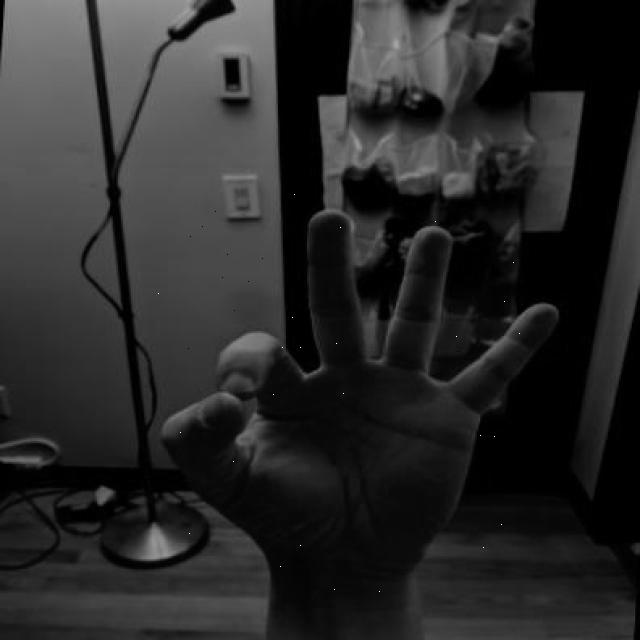F: (143, 194, 571, 593)
